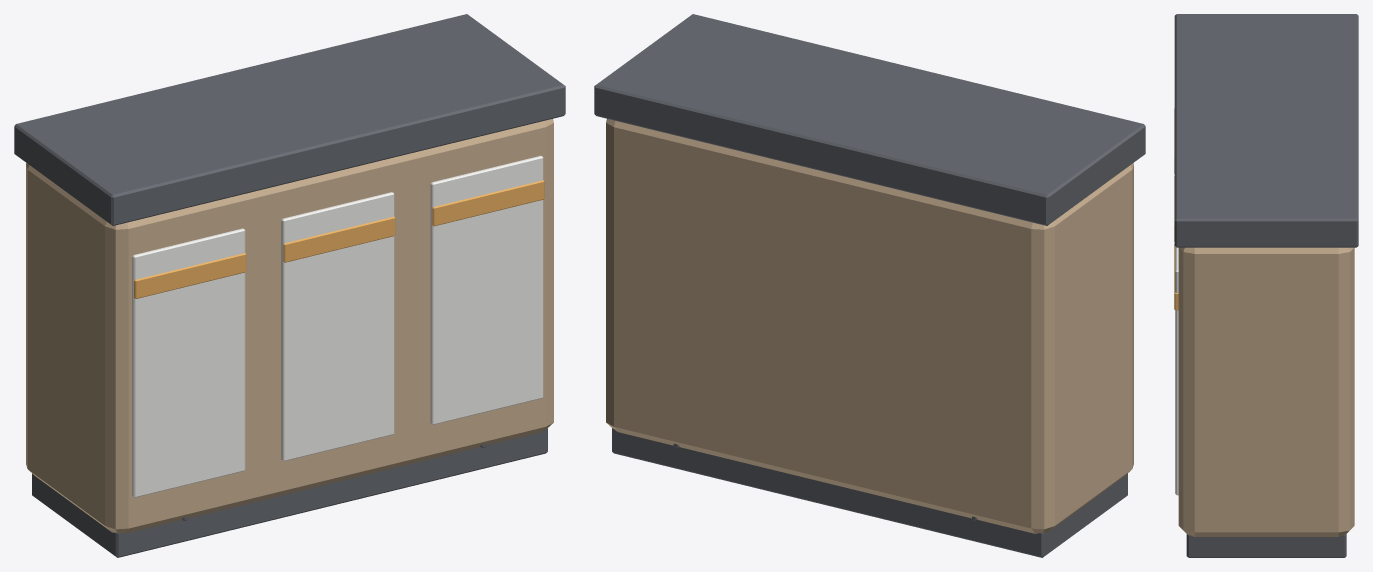
The model's file is office-lobby-and-facilities-waste-recycling-bank-e69535a2__26267.glb.
3 views of the same model, side by side, from view 1: azimuth 30°, elevation 25°; view 2: azimuth 150°, elevation 25°; view 3: azimuth 270°, elevation 25° (orthographic). The views are drawn at different scales.
Visible parts, largest first — view 1: waste-recycling-bank; view 2: waste-recycling-bank; view 3: waste-recycling-bank.
Boxes of the visible parts, x1,y1,x2,y2 form: waste-recycling-bank: (14, 14, 565, 557); waste-recycling-bank: (594, 14, 1145, 557); waste-recycling-bank: (1174, 14, 1358, 557).
Bounding box in the file's own units: 1.22 × 0.95 × 0.4609.
